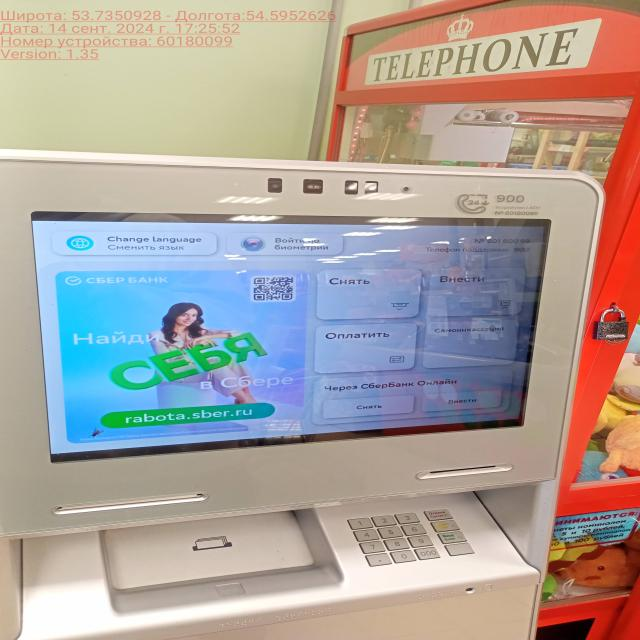bank: (0, 149, 611, 640)
